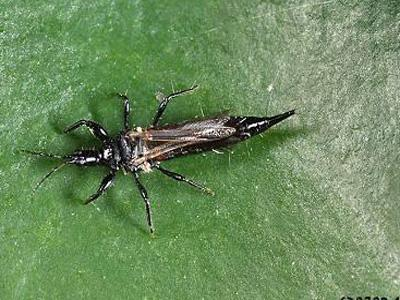Phlaeothripidae: (17, 85, 296, 236)
